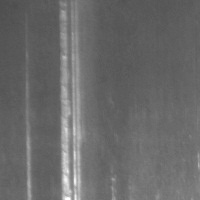scratches: (58, 1, 84, 200), (23, 58, 35, 199)
